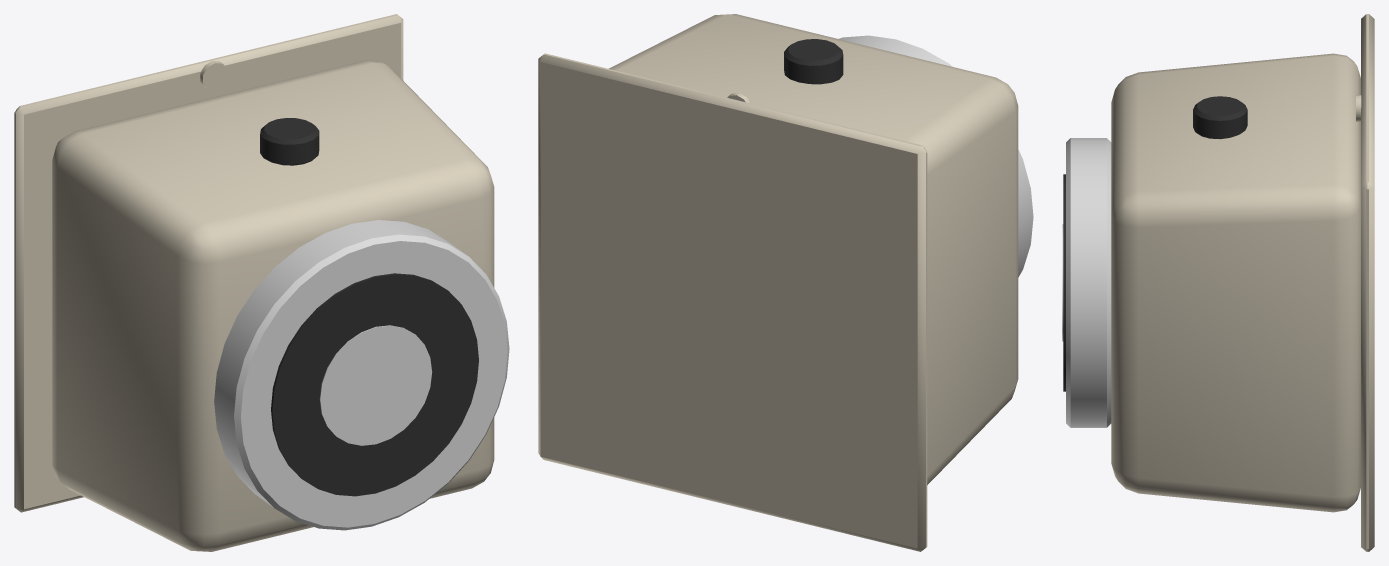
File: Kit_RunMagnetHolder.fbx
The picture shows the model from 3 angles, left to right: view 1: azimuth 30°, elevation 25°; view 2: azimuth 150°, elevation 25°; view 3: azimuth 270°, elevation 25°; orthographic projection. The views are drawn at different scales.
Visible parts, largest first — view 1: Kit_RunMagnetHolder_LOD0; view 2: Kit_RunMagnetHolder_LOD0; view 3: Kit_RunMagnetHolder_LOD0.
Part boxes in pixels (left/top/right/bottom): Kit_RunMagnetHolder_LOD0: left=14, top=14, right=509, bottom=551; Kit_RunMagnetHolder_LOD0: left=538, top=14, right=1033, bottom=551; Kit_RunMagnetHolder_LOD0: left=1062, top=14, right=1374, bottom=551.
Size of what is drawn, in the model's own units: 0.09 by 0.091 by 0.0688.
